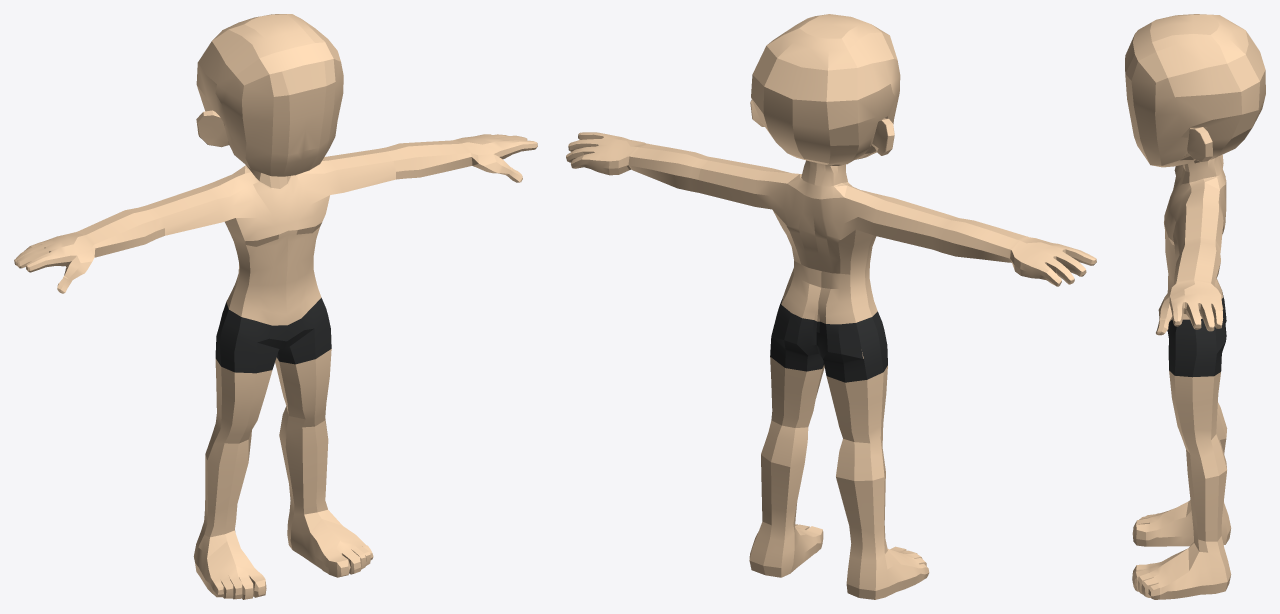
Rendered from body_boy.fbx.
The picture shows the model from 3 angles, left to right: view 1: azimuth 30°, elevation 25°; view 2: azimuth 150°, elevation 25°; view 3: azimuth 270°, elevation 25°; orthographic projection.
Parts seen in each view (by area): view 1: boy body; view 2: boy body; view 3: boy body.
Boxes of the visible parts, x1,y1,x2,y2 form: boy body: [14, 14, 537, 599]; boy body: [566, 14, 1096, 599]; boy body: [1125, 14, 1265, 599].
Size of the model in its own units: 464 by 472 by 111.
